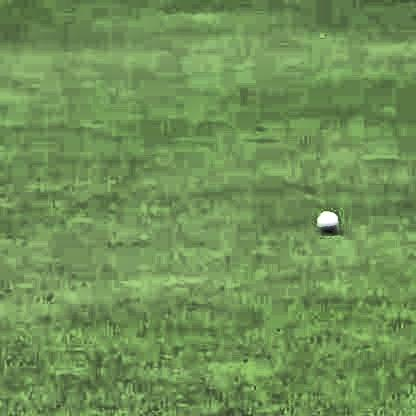golfball: (314, 207, 337, 232)
